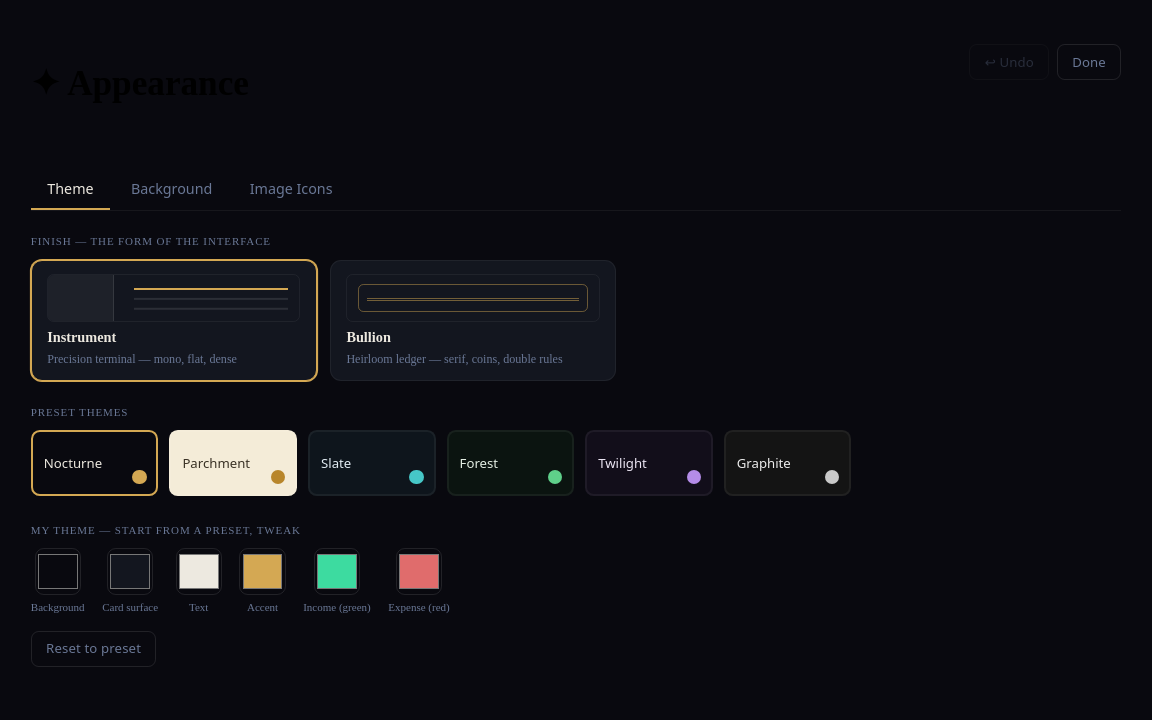
Test case: AppearanceScreen › passes rename/delete handlers so the Background tab renders photo actions
Step 1. Click the tab "Background" → (172, 190), box [114,170,229,210]
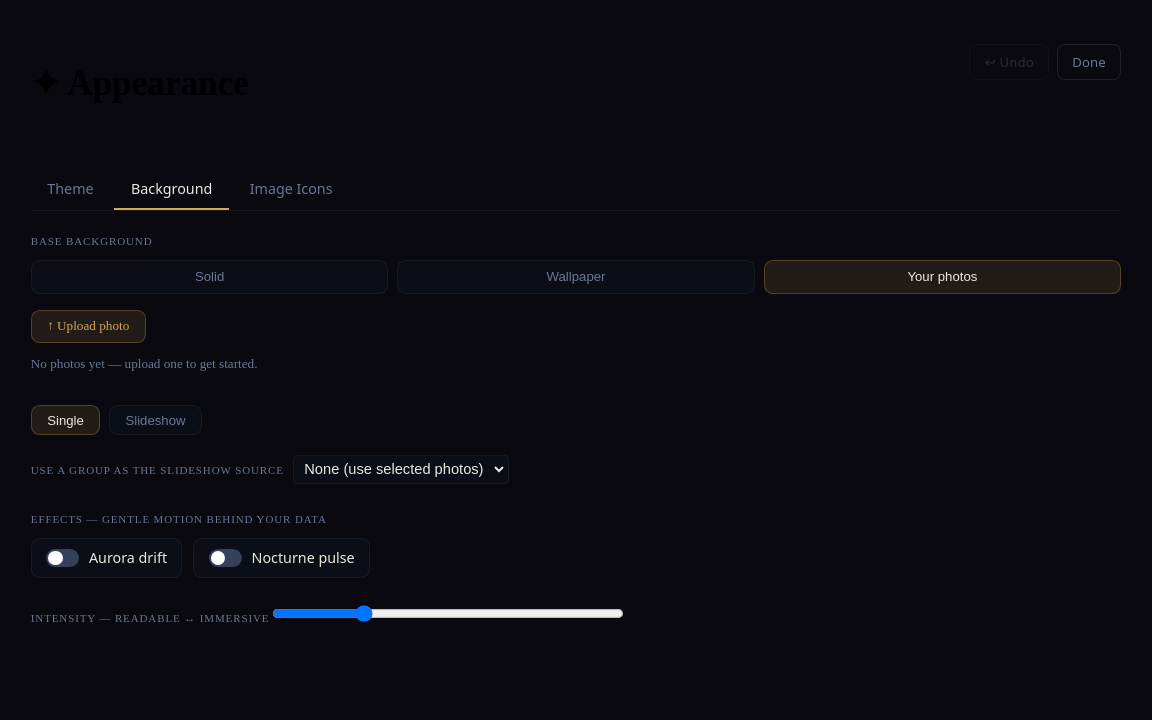
Expected: the file field labelled "Upload photo" is shown, [31,310,146,343]
